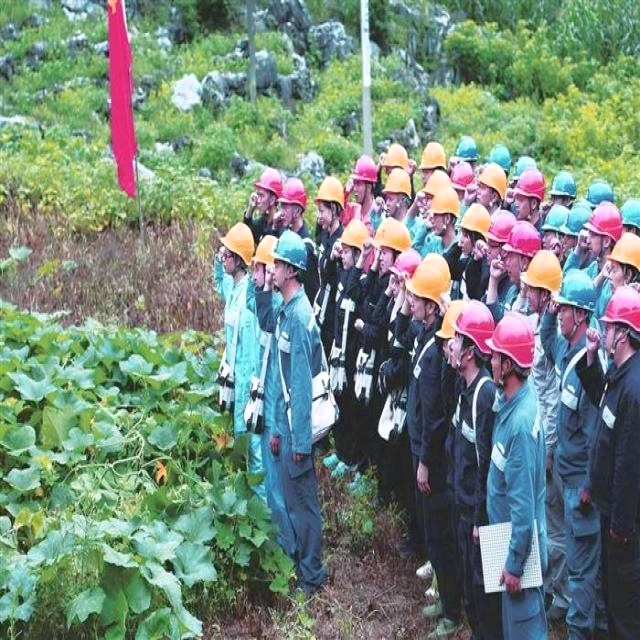Con_Casco: (492, 314, 535, 387), (272, 234, 308, 294)
